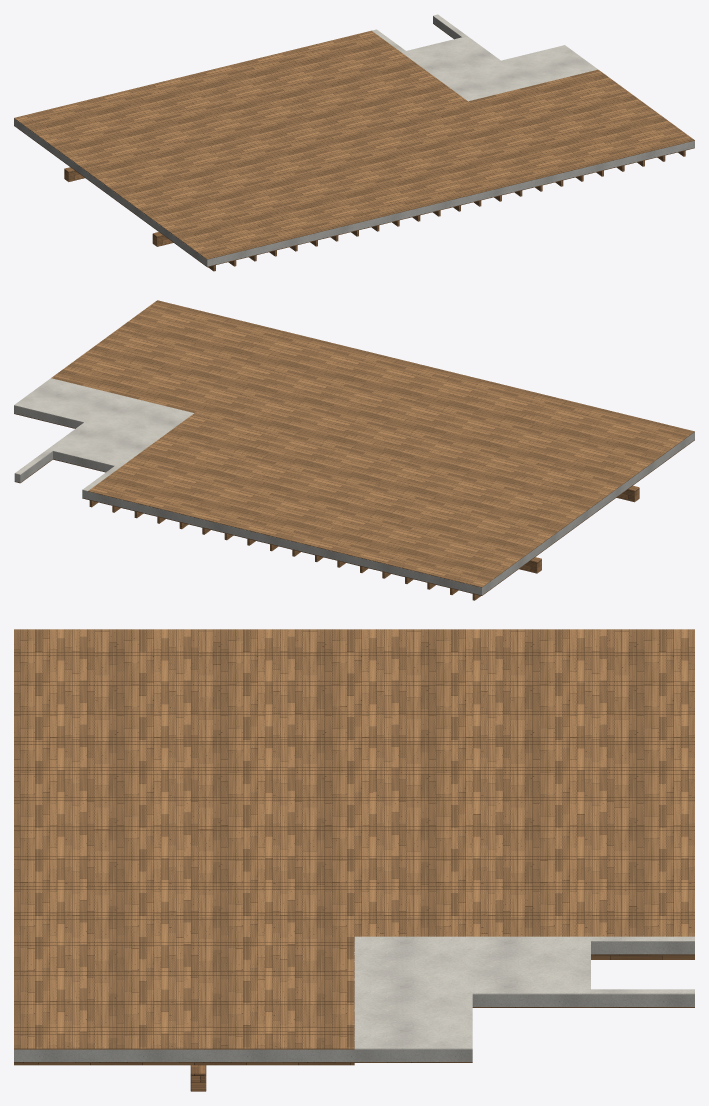
File: slab_1.glb
The picture shows the model from 3 angles, top to bottom: view 1: azimuth 30°, elevation 25°; view 2: azimuth 150°, elevation 25°; view 3: azimuth 270°, elevation 25°; orthographic projection. The views are drawn at different scales.
Parts seen in each view (by area): view 1: slab_1_floor_w, slab_1_tile_h, slab_1_conc_s, slab_1_timber; view 2: slab_1_floor_w, slab_1_tile_h, slab_1_conc_s, slab_1_timber; view 3: slab_1_floor_w, slab_1_tile_h, slab_1_conc_s, slab_1_timber.
Boxes of the visible parts, bbox=[...] form: slab_1_floor_w: bbox=[14, 30, 694, 259]; slab_1_tile_h: bbox=[372, 14, 597, 101]; slab_1_conc_s: bbox=[14, 16, 694, 266]; slab_1_timber: bbox=[14, 23, 694, 271]; slab_1_floor_w: bbox=[51, 300, 694, 587]; slab_1_tile_h: bbox=[14, 378, 193, 491]; slab_1_conc_s: bbox=[14, 406, 694, 595]; slab_1_timber: bbox=[14, 413, 694, 600]; slab_1_floor_w: bbox=[14, 629, 694, 1049]; slab_1_tile_h: bbox=[354, 936, 694, 1049]; slab_1_conc_s: bbox=[14, 942, 694, 1061]; slab_1_timber: bbox=[14, 954, 694, 1091].
Size of the model in its own units: 19.1 by 0.92 by 13.1.
5 materials, 4 textured.
